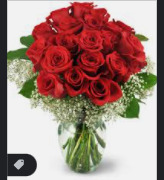RedRose: (87, 76, 123, 108), (59, 64, 89, 100), (118, 33, 148, 64), (42, 45, 69, 72), (38, 72, 62, 102), (78, 46, 101, 74), (78, 4, 103, 29), (30, 19, 56, 43), (55, 27, 78, 53), (79, 30, 106, 52), (107, 47, 126, 77), (27, 38, 47, 63), (48, 5, 71, 26)
